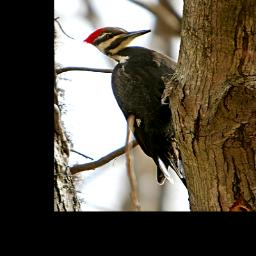Woodpecker: (82, 26, 190, 190)
